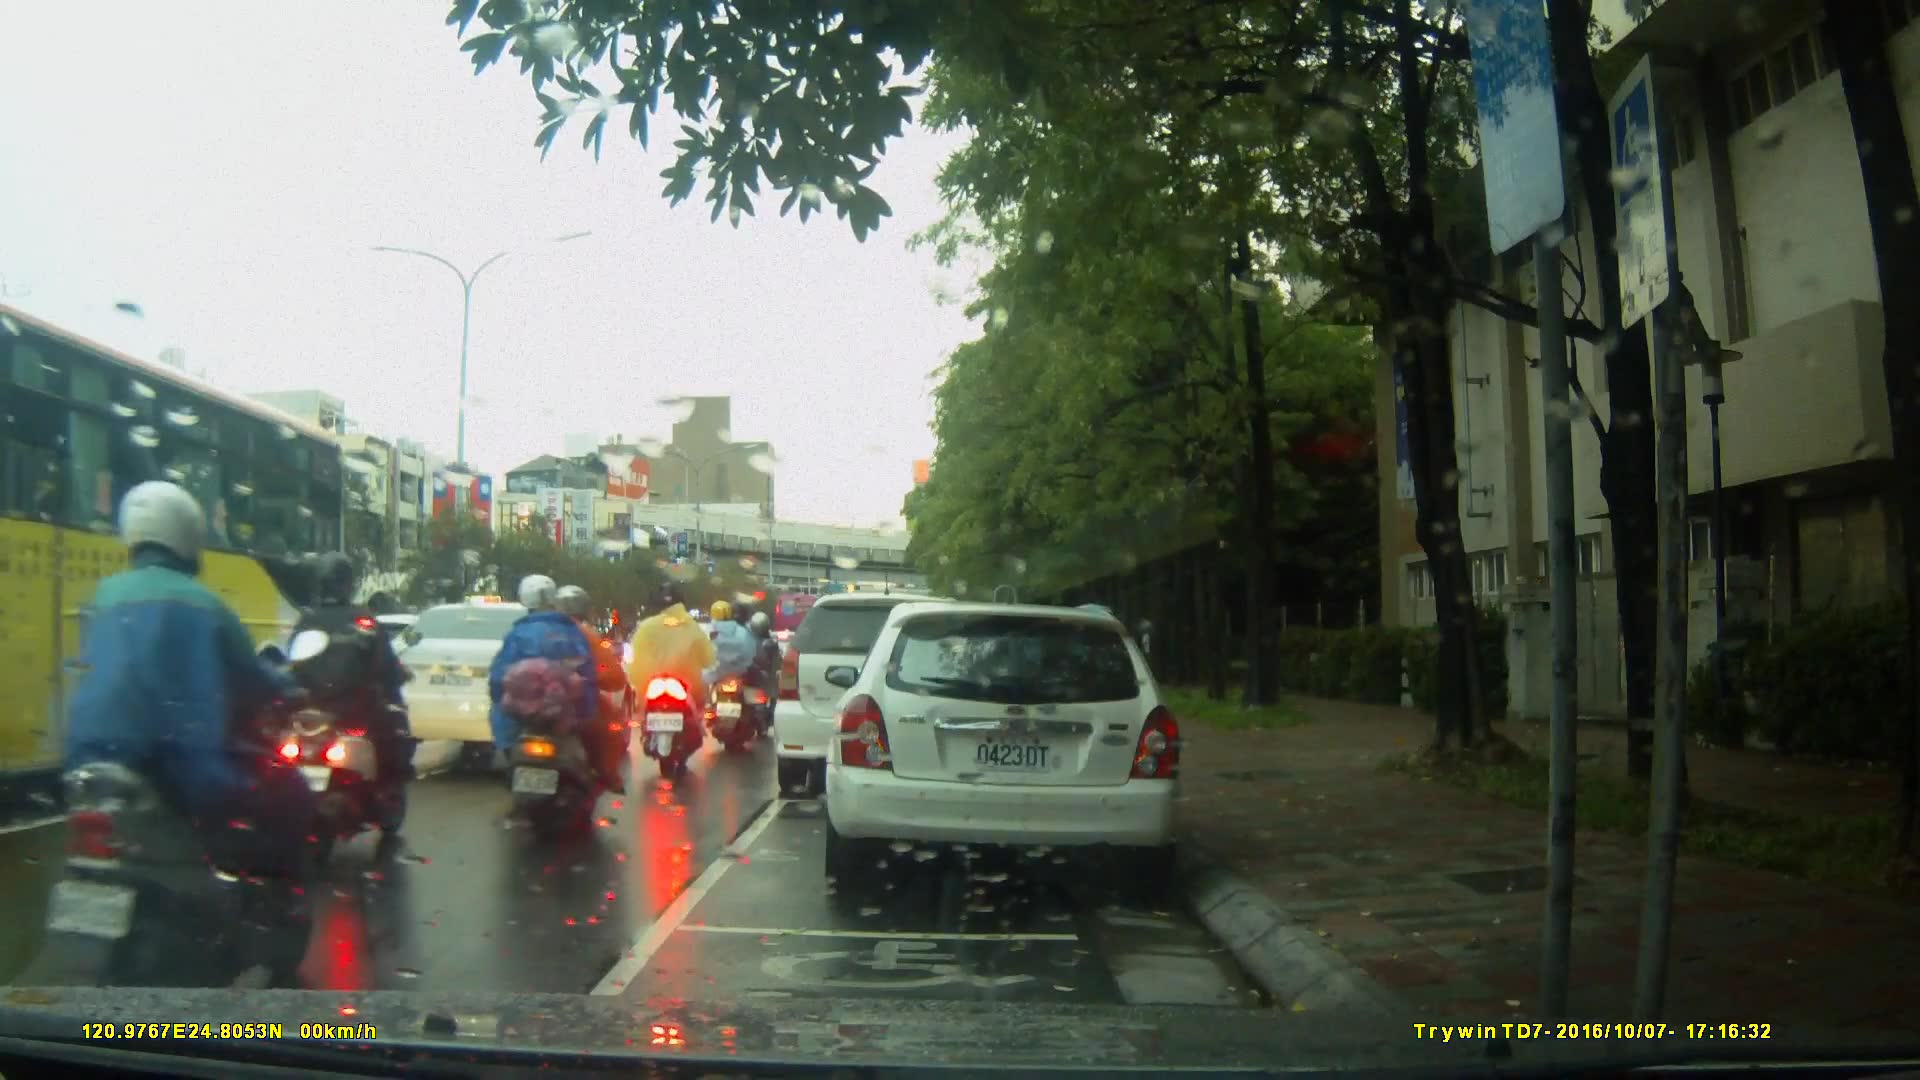rider: (47, 481, 329, 997), (253, 548, 411, 851), (487, 576, 633, 838), (624, 573, 718, 777), (703, 598, 765, 752), (734, 612, 784, 732)
vehicle: (1, 298, 357, 827), (835, 594, 1194, 898), (776, 590, 1026, 784), (381, 600, 635, 773)
